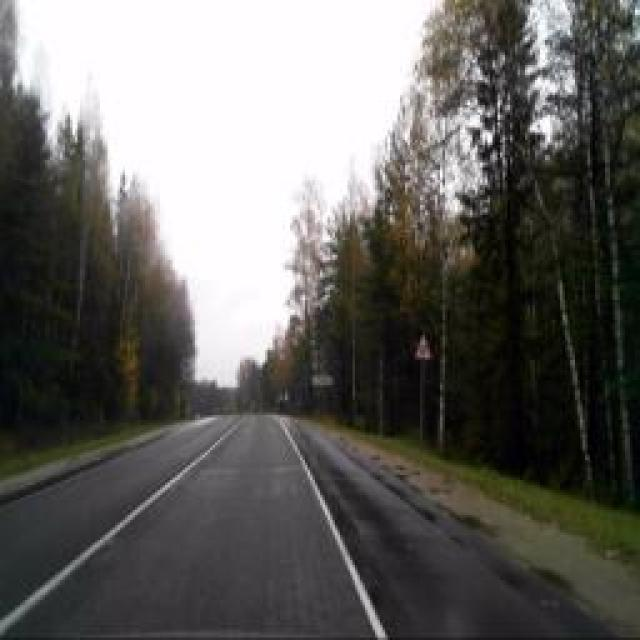sign: (412, 329, 432, 366)
